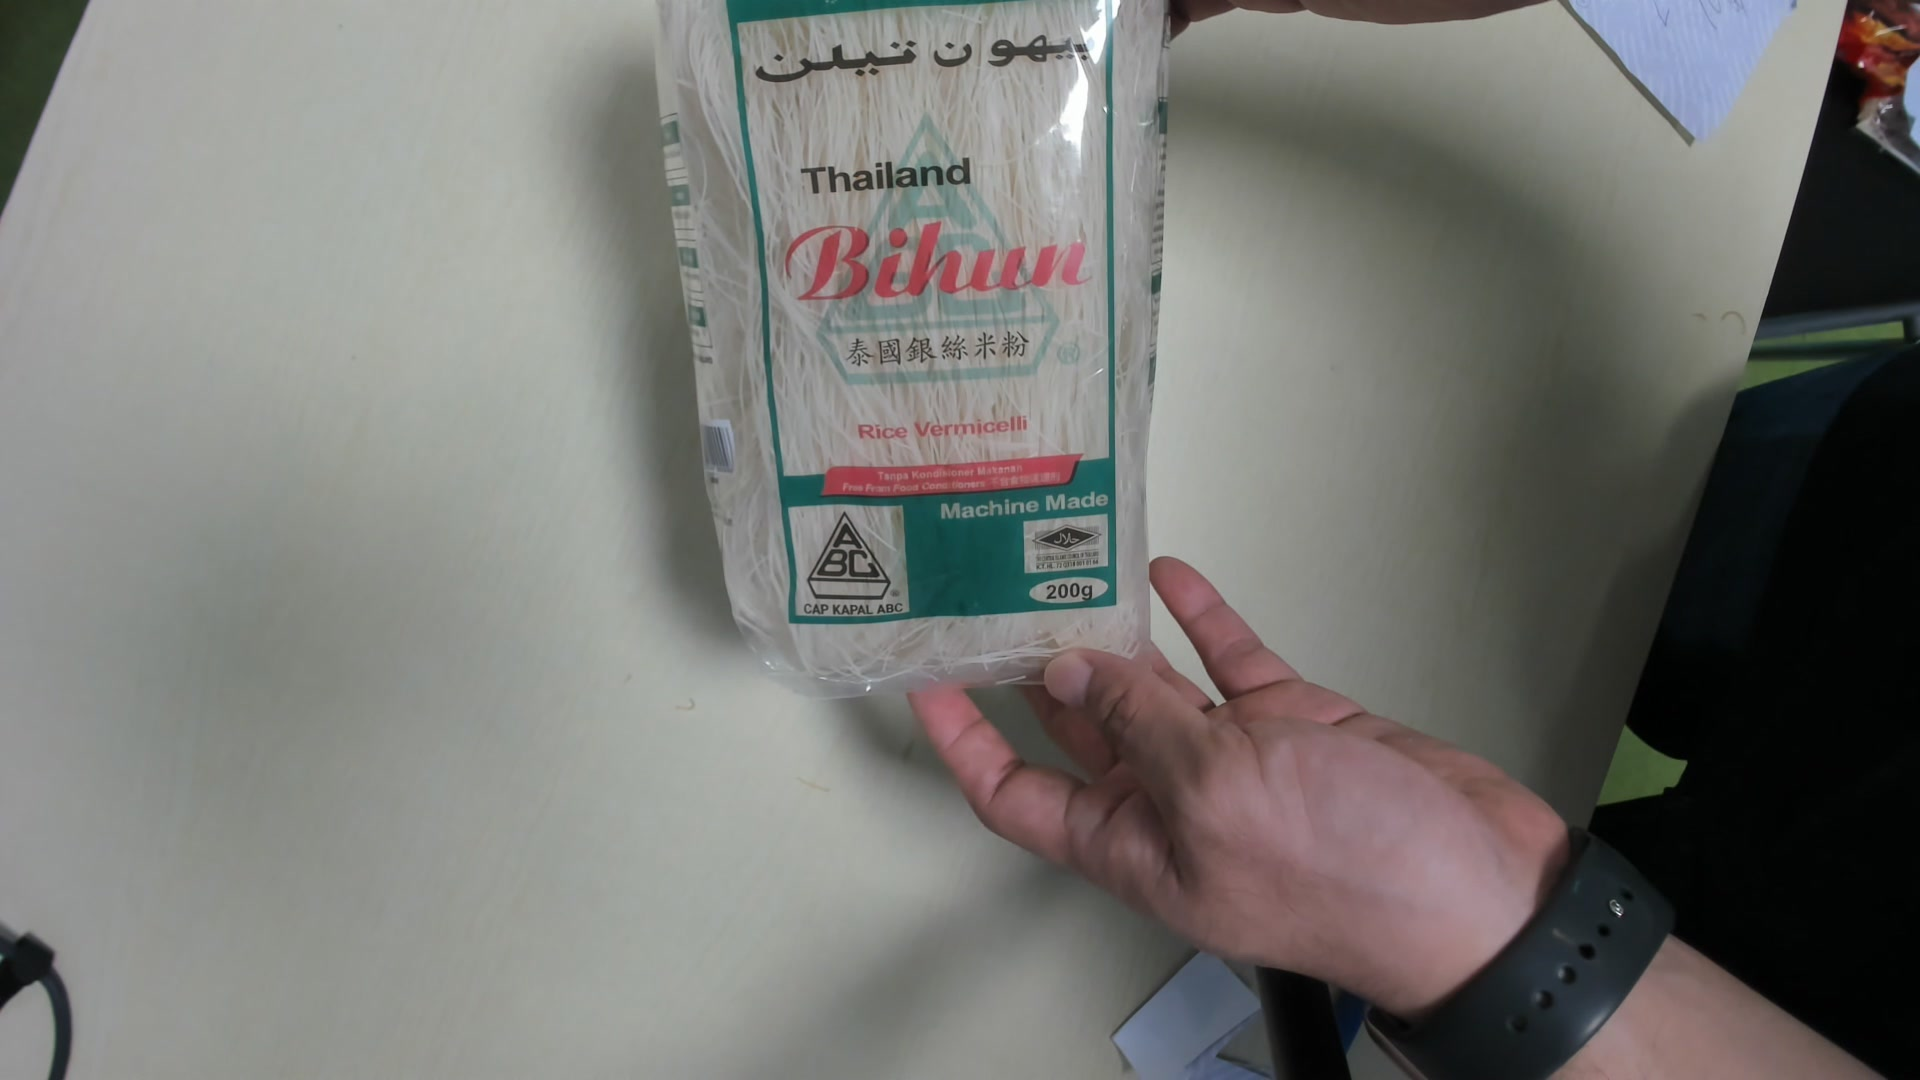BeeHoonVermicelli_200-299g_Halal_NonHealthy: (649, 12, 1164, 705)
